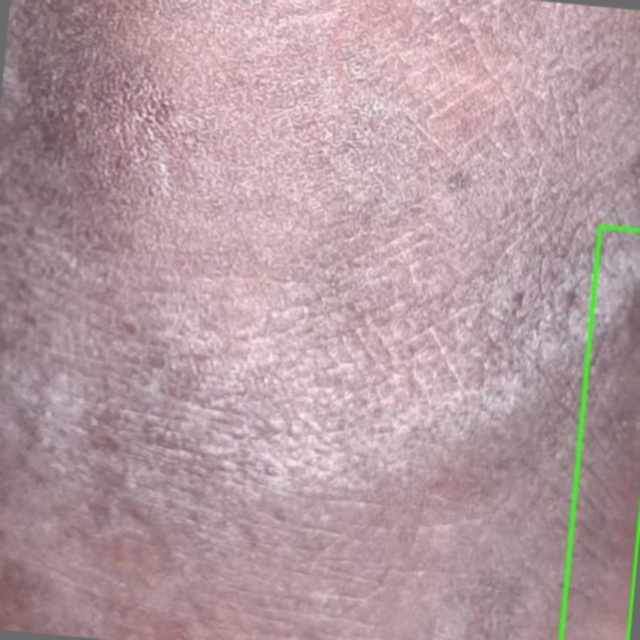Contact Dermatitis: (561, 226, 639, 639)
